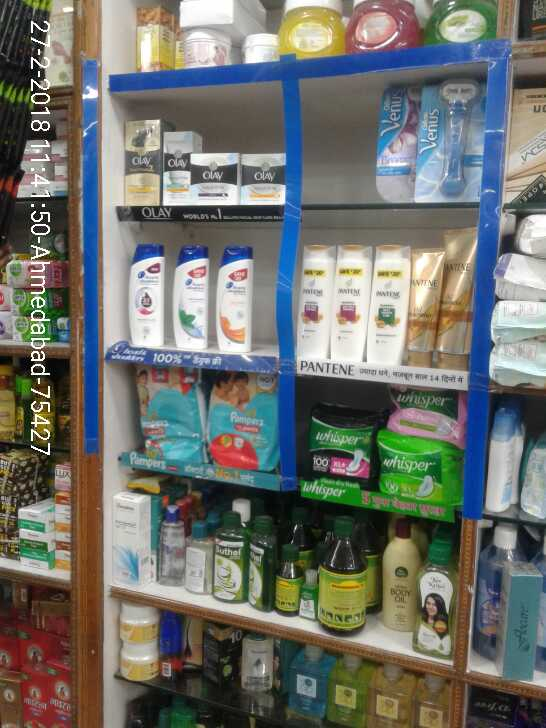venus: (419, 75, 484, 196), (381, 84, 419, 196)
